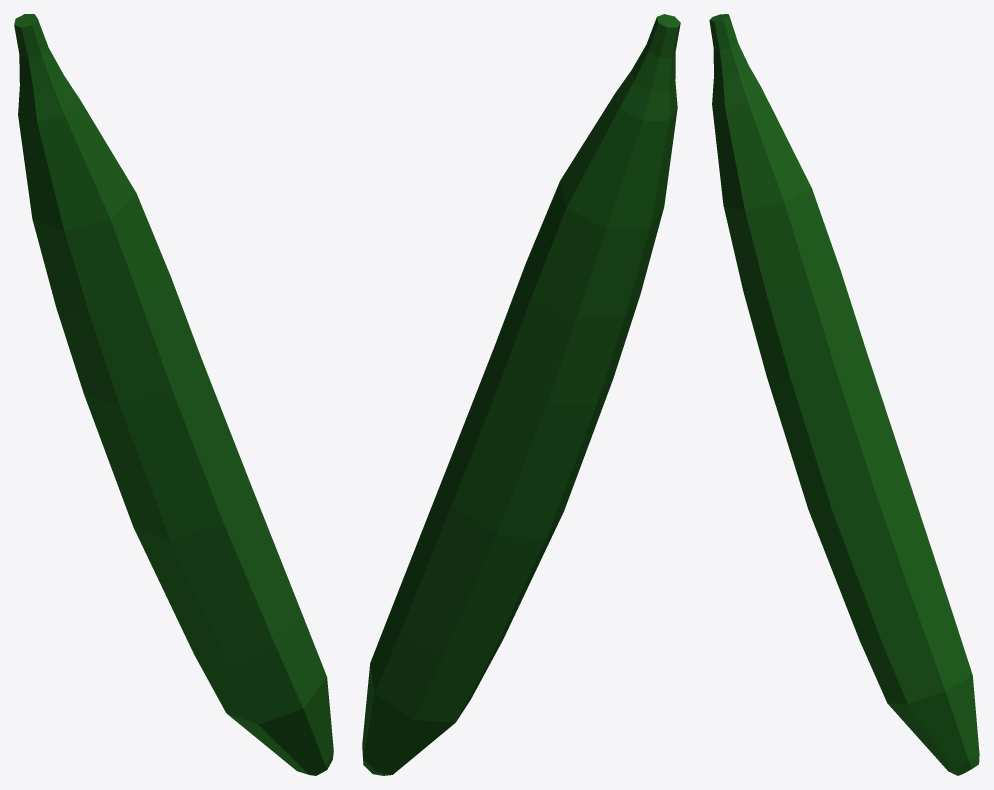
The model's file is ccb.fbx.
3 renders of one model, left to right at view 1: azimuth 30°, elevation 25°; view 2: azimuth 150°, elevation 25°; view 3: azimuth 330°, elevation 25°, orthographic. The views are drawn at different scales.
Visible parts, largest first — view 1: cucumber; view 2: cucumber; view 3: cucumber.
Boxes of the visible parts, box(x1,y1,x2,y2) form: cucumber: box(14, 14, 333, 775); cucumber: box(362, 14, 680, 775); cucumber: box(709, 14, 979, 775).
Size of the model in its own units: 2.08 by 5.23 by 0.7027.
